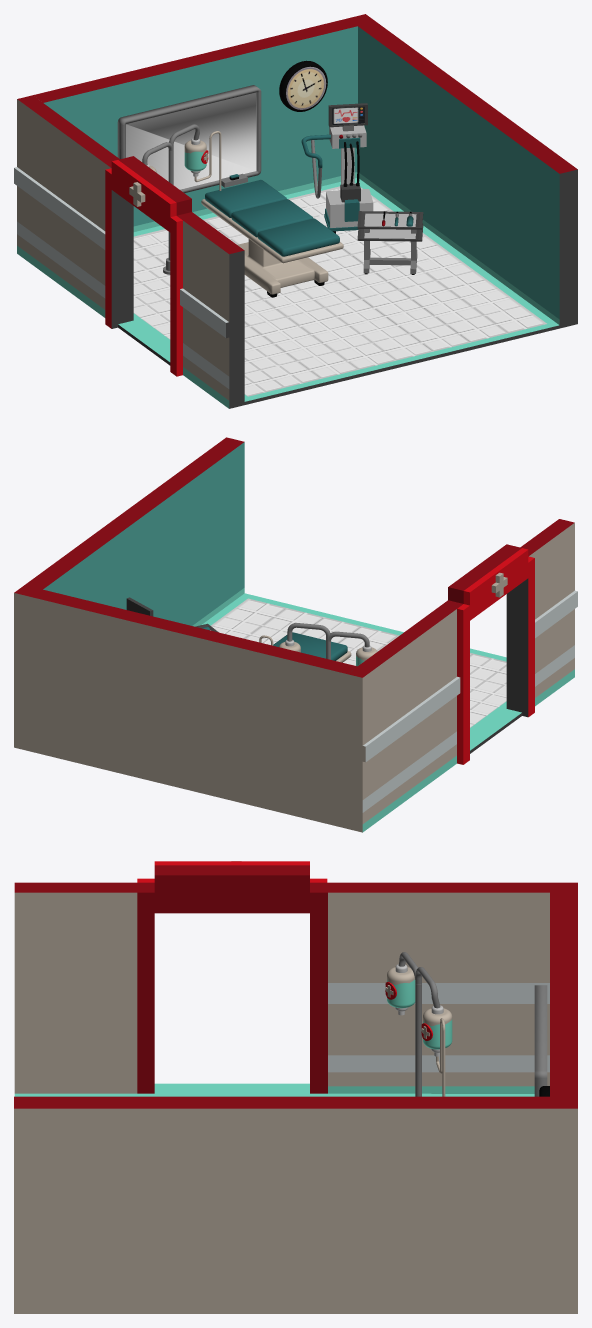
File: level3room.fbx
3 views of the same model, one above another, from view 1: azimuth 30°, elevation 25°; view 2: azimuth 150°, elevation 25°; view 3: azimuth 270°, elevation 25° (orthographic). The views are drawn at different scales.
Visible parts, largest first — view 1: lv3_room, lv3_strecher, lv3_ekg, lv3_table, lv3_serum; view 2: lv3_room, lv3_serum, lv3_strecher; view 3: lv3_room, lv3_serum.
Part boxes in pixels (x1,y1,x2,y2): lv3_room: (14, 14, 577, 408); lv3_strecher: (201, 179, 343, 297); lv3_ekg: (301, 103, 373, 233); lv3_table: (357, 211, 423, 274); lv3_serum: (142, 124, 221, 274); lv3_room: (14, 437, 577, 832); lv3_serum: (259, 623, 377, 666); lv3_strecher: (273, 632, 351, 662); lv3_room: (14, 861, 577, 1313); lv3_serum: (385, 952, 452, 1096).
Bounding box in the file's own units: 573 × 256 × 587.
